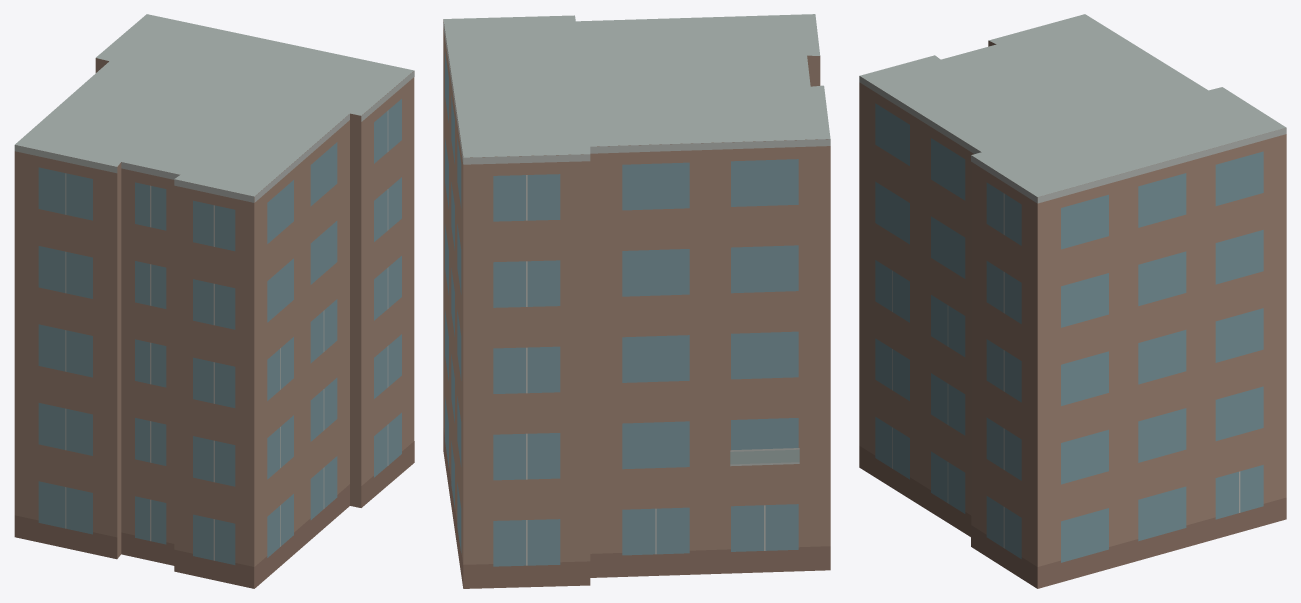
Rendered from survey-upis-32931800.glb.
The picture shows the model from 3 angles, left to right: view 1: azimuth 30°, elevation 25°; view 2: azimuth 150°, elevation 25°; view 3: azimuth 270°, elevation 25°; orthographic projection. The views are drawn at different scales.
Parts seen in each view (by area): view 1: survey-upis-32931800.tmp; view 2: survey-upis-32931800.tmp; view 3: survey-upis-32931800.tmp.
Part boxes in pixels (<box>): survey-upis-32931800.tmp: <box>14,14,414,588</box>; survey-upis-32931800.tmp: <box>443,14,830,588</box>; survey-upis-32931800.tmp: <box>859,14,1286,588</box>.
Size of the model in its own units: 14.95 by 14.9 by 14.74.
